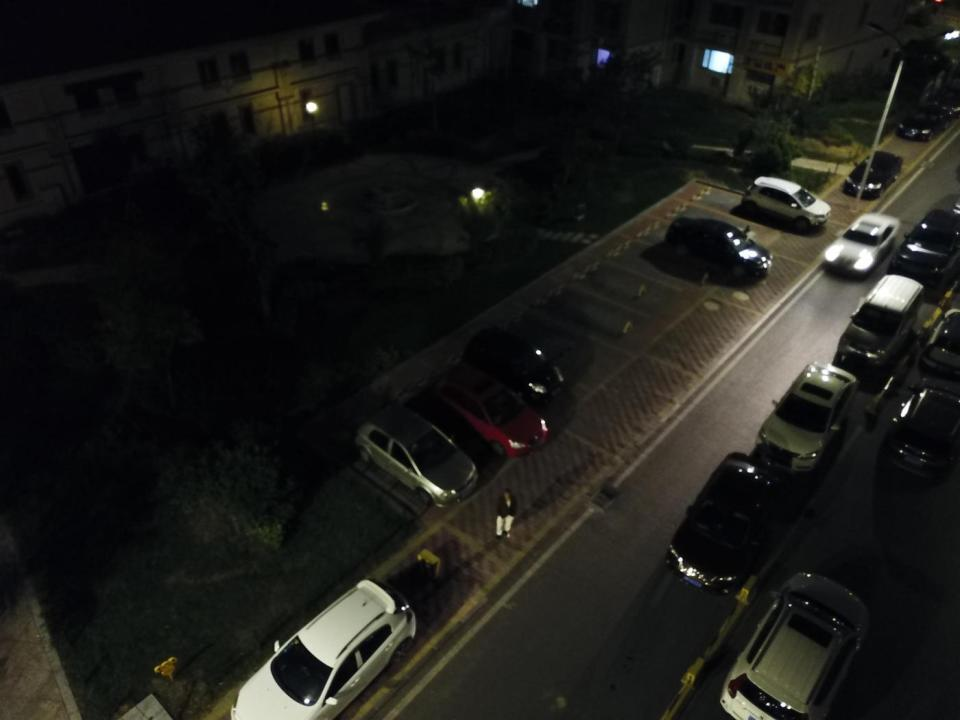car: (228, 576, 416, 720), (719, 571, 870, 720), (665, 451, 796, 594), (354, 402, 480, 507), (755, 362, 858, 472), (430, 368, 548, 458), (878, 376, 960, 485), (467, 326, 565, 401), (664, 216, 773, 281), (889, 207, 960, 288), (740, 176, 832, 231), (825, 211, 902, 276), (846, 150, 903, 198), (920, 309, 960, 375), (896, 102, 951, 141)
van: (838, 273, 924, 370)
